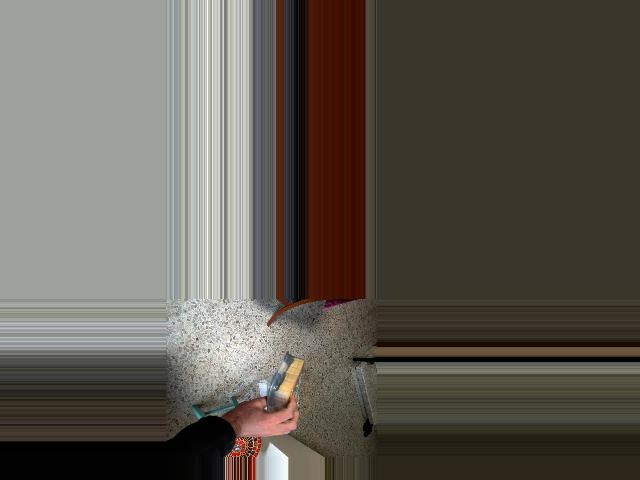cheese: (259, 348, 309, 425)
